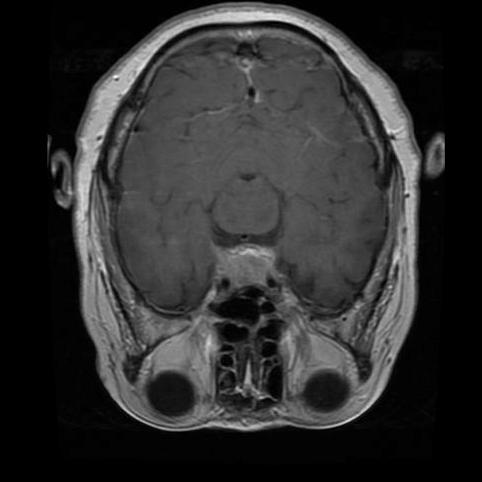Tumour-Pituitary: (214, 246, 284, 296)
